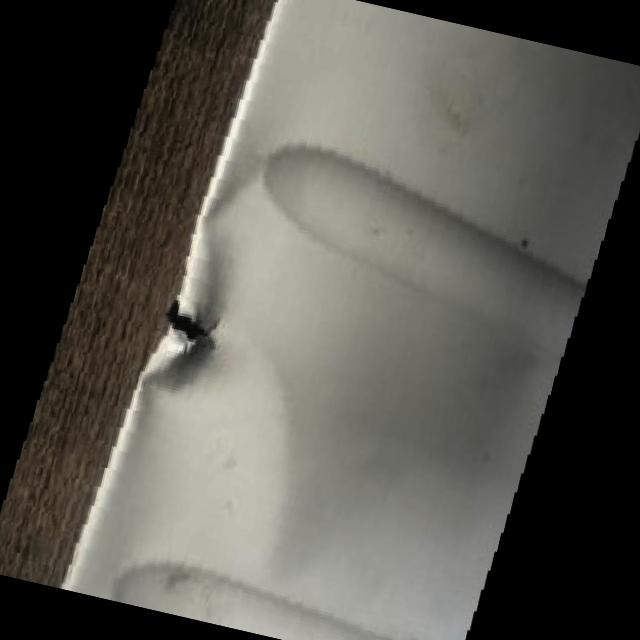crack: (154, 295, 229, 365)
